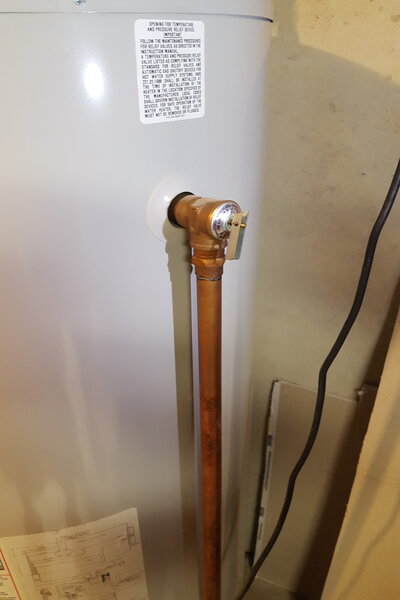valve: (165, 190, 250, 289)
